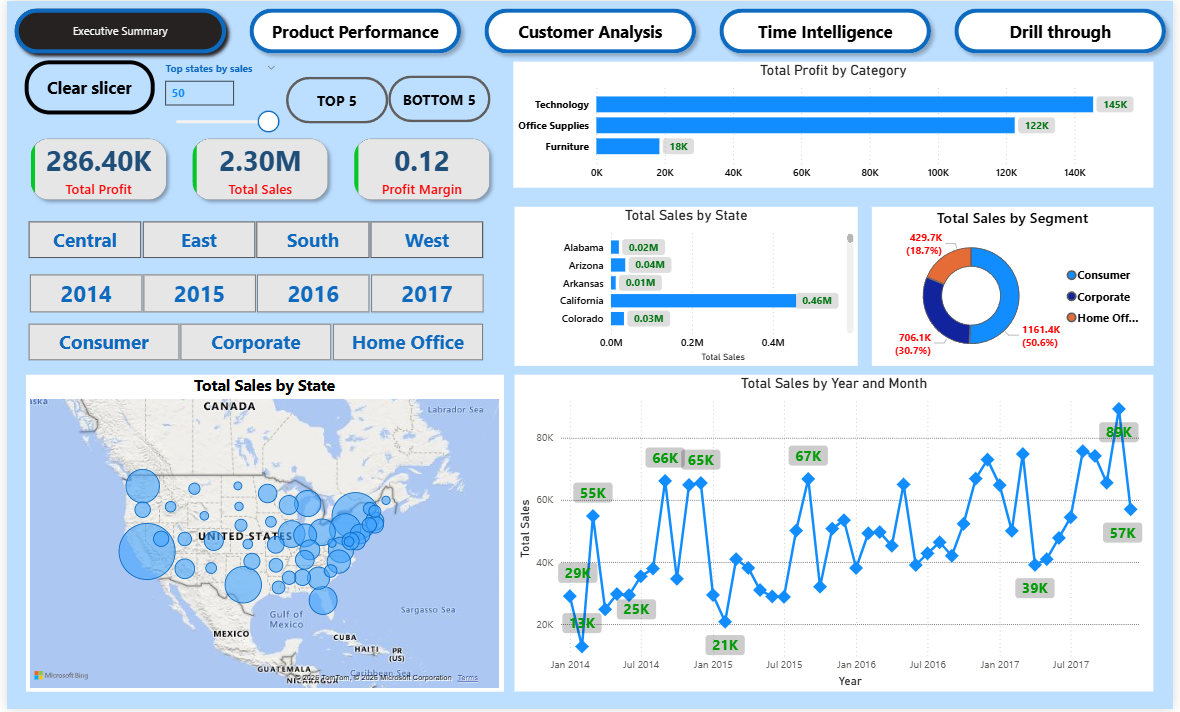

The page's visual inventory and layout, read from the dashboard file:
{"tool":"powerbi","page":{"name":"Executive Summary","canvas":[1400,850],"ordinal":0},"visuals":[{"type":"cardVisual","fields":{"Data":["Superstore.Total Profit","Superstore.Total Sales","Superstore.Profit Margin"]},"box":[0,136.4,609.1,131.8],"z":0},{"type":"map","fields":{"Size":["Superstore.Total Sales"],"Category":["Superstore.State"]},"box":[22.7,448.5,572.7,380.3],"z":1000},{"type":"lineChart","fields":{"Y":["Superstore.Total Sales"],"Category":["Date Table.Date.Variation.Date Hierarchy.Year","Date Table.Date.Variation.Date Hierarchy.Month"]},"box":[609.1,448.5,766.7,380.3],"z":2000},{"type":"barChart","fields":{"Y":["Superstore.Total Profit"],"Category":["Superstore.Category"]},"box":[607.6,72.7,768.2,151.5],"z":3000},{"type":"slicer","fields":{"Values":["Date Table.Date.Variation.Date Hierarchy.Year"]},"box":[1.5,321.2,593.9,59.1],"z":4000},{"type":"slicer","fields":{"Values":["Superstore.Segment"]},"box":[0,380.3,595.5,57.6],"z":5000},{"type":"pageNavigator","box":[0,0,1400,72.7],"z":6000},{"type":"slicer","fields":{"Values":["Superstore.Region"]},"box":[0,257.6,595.5,57.6],"z":10000},{"type":"donutChart","fields":{"Category":["Superstore.Segment"],"Y":["Superstore.Total Sales"]},"box":[1037.9,247,337.9,190.9],"z":11000},{"type":"barChart","fields":{"Y":["Superstore.Total Sales"],"Category":["Superstore.State"]},"box":[609.1,247,412.1,190.9],"z":12000},{"type":"actionButton","title":"TOP 5","box":[334.8,90.9,122.7,56.1],"z":13000},{"type":"actionButton","title":"TOP 5","box":[457.6,89.4,122.7,56.1],"z":14000},{"type":"slicer","fields":{"Values":["Top N.Top N"]},"box":[177.3,68.2,157.6,101.5],"z":17000},{"type":"actionButton","box":[21.2,71.2,156.1,65.2],"z":17001}]}

Visuals, with their boxes in screenshot pixels (x1, y1, x2, y2), scaled from the page's 1400x850 canvas onto the 1180x712 screenshot:
cardVisual - Superstore.Total Profit x Superstore.Total Sales: x1=0 y1=114 x2=513 y2=225
map - Superstore.Total Sales x Superstore.State: x1=19 y1=376 x2=502 y2=694
lineChart - Superstore.Total Sales x Date Table.Date.Variation.Date Hierarchy.Year: x1=513 y1=376 x2=1160 y2=694
barChart - Superstore.Total Profit x Superstore.Category: x1=512 y1=61 x2=1160 y2=188
slicer - Date Table.Date.Variation.Date Hierarchy.Year: x1=1 y1=269 x2=502 y2=319
slicer - Superstore.Segment: x1=0 y1=319 x2=502 y2=367
pageNavigator: x1=0 y1=0 x2=1179 y2=61
slicer - Superstore.Region: x1=0 y1=216 x2=502 y2=264
donutChart - Superstore.Segment x Superstore.Total Sales: x1=875 y1=207 x2=1160 y2=367
barChart - Superstore.Total Sales x Superstore.State: x1=513 y1=207 x2=861 y2=367
"TOP 5" actionButton: x1=282 y1=76 x2=386 y2=123
"TOP 5" actionButton: x1=386 y1=75 x2=489 y2=122
slicer - Top N.Top N: x1=149 y1=57 x2=282 y2=142
actionButton: x1=18 y1=60 x2=149 y2=114
